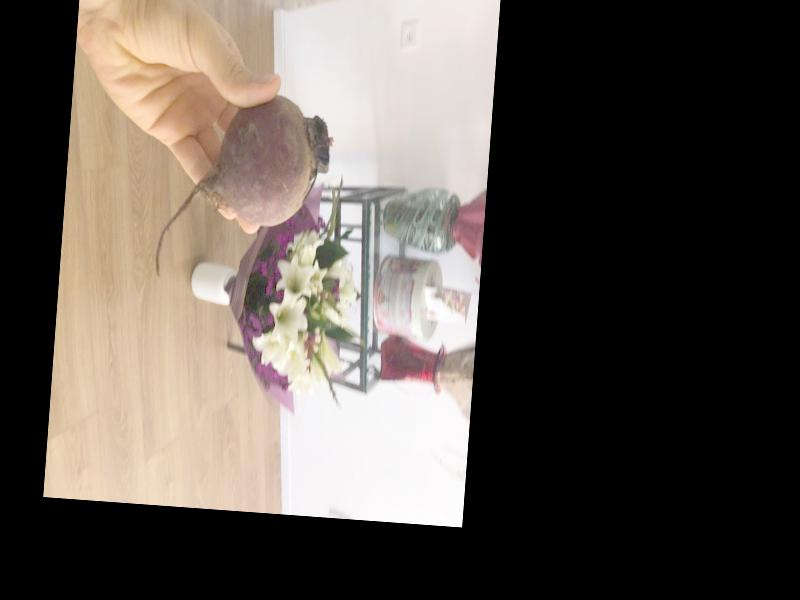Beet: (154, 88, 334, 292)
